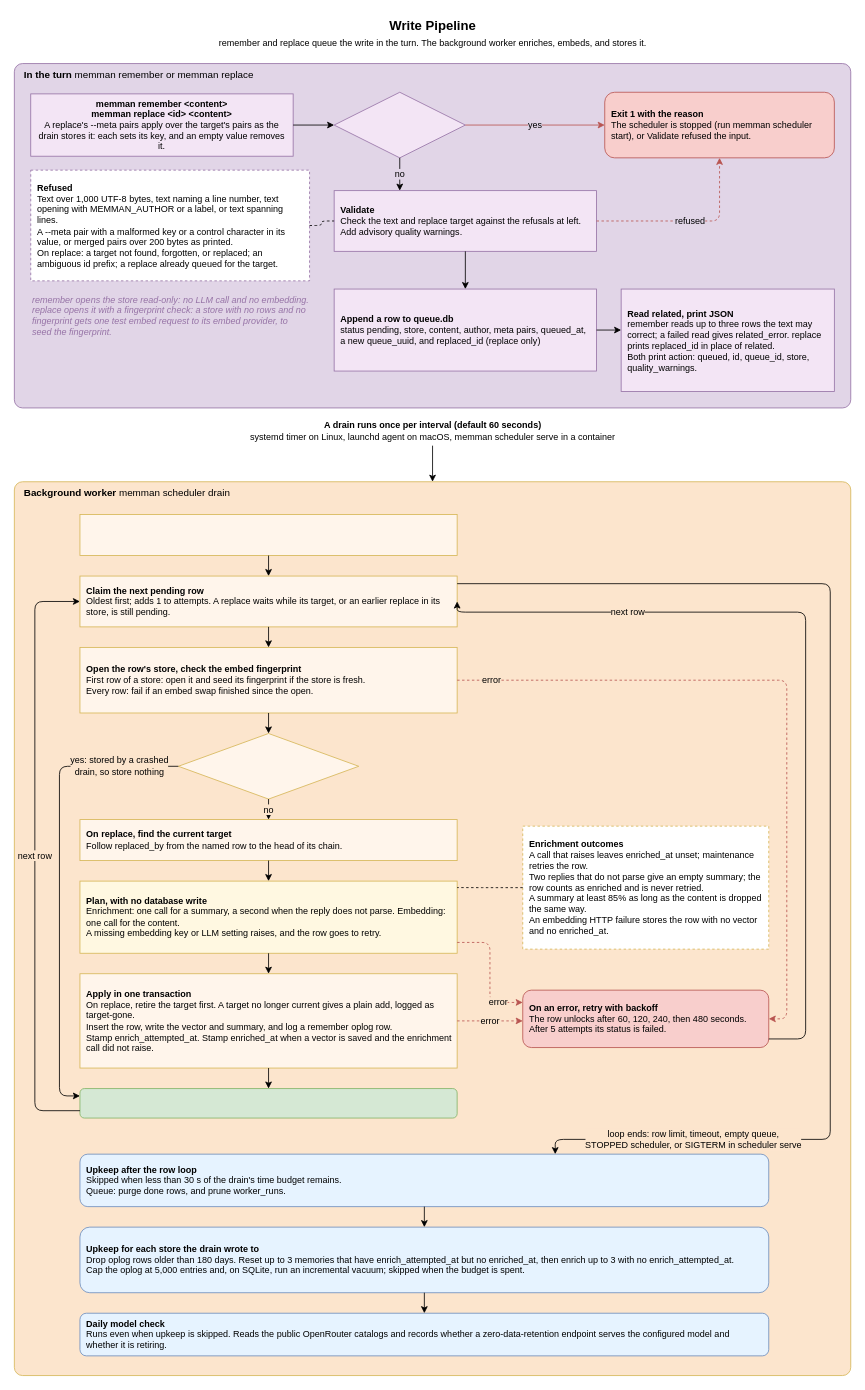
This 865x1390 diagram has some shape labels left out. The shapes that lost their labels are listed below. From the top down, each one's centre as x and y in pixels, then its label:
(399,124): Scheduler STOPPED?
(268,535): Take the flock on drain.lock If another drain holds it, exit at once.
(268,766): Any stored memory holds this queue_uuid?
(268,1103): Mark the row done
